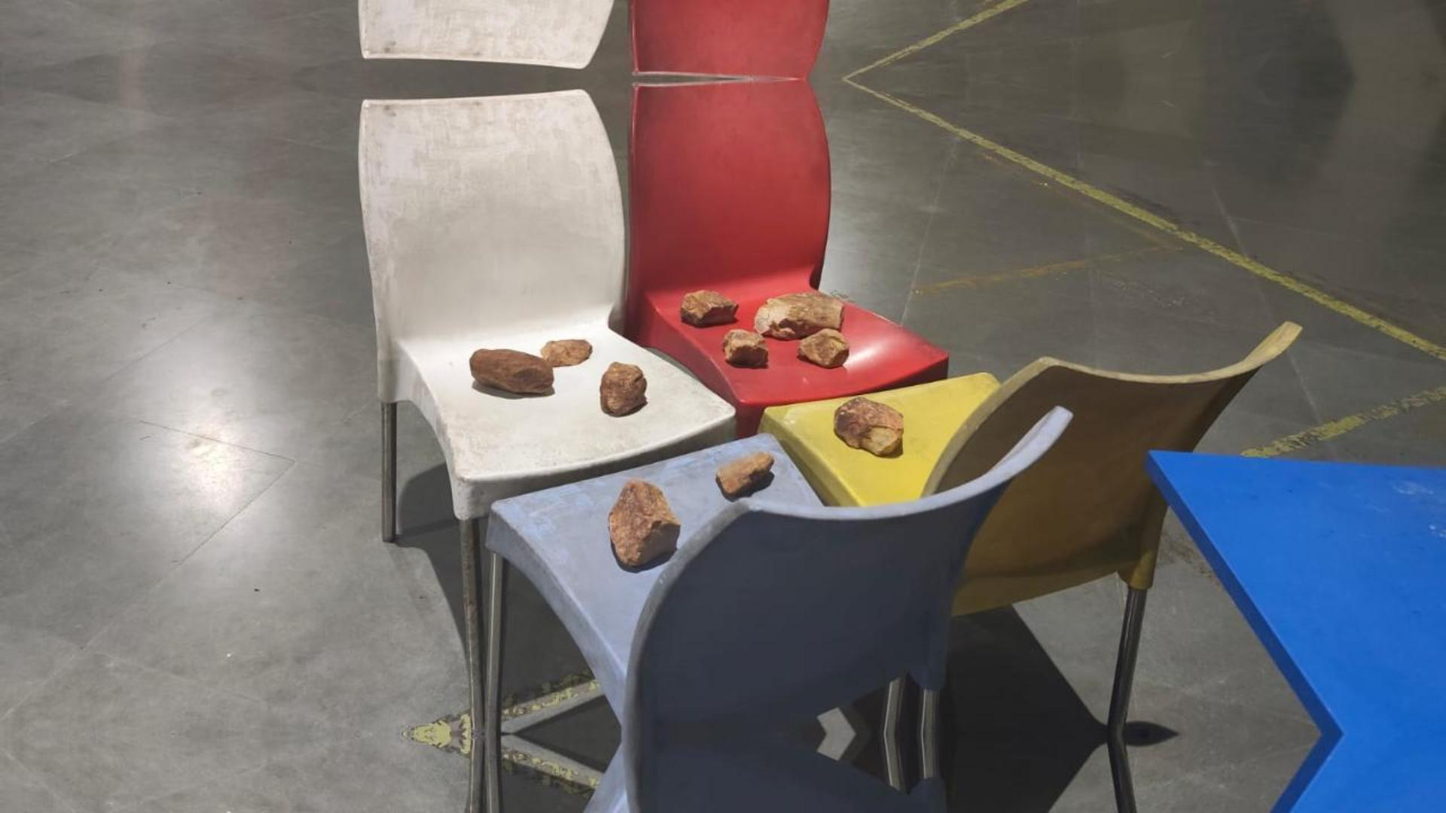rock: (608, 479, 680, 569), (754, 291, 843, 339), (834, 396, 903, 456), (470, 349, 552, 394), (715, 452, 774, 499), (600, 361, 646, 416), (680, 290, 738, 326), (798, 329, 848, 367), (723, 329, 768, 367), (541, 339, 592, 366)
